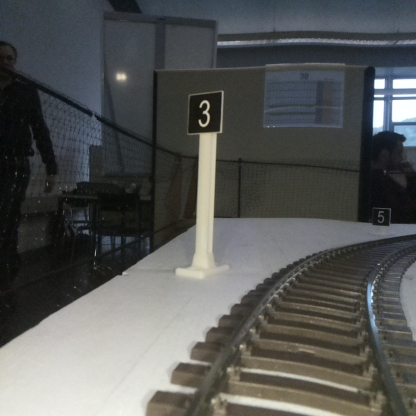black-info-3: (188, 91, 221, 275)
black-stop-5: (372, 208, 389, 233)
